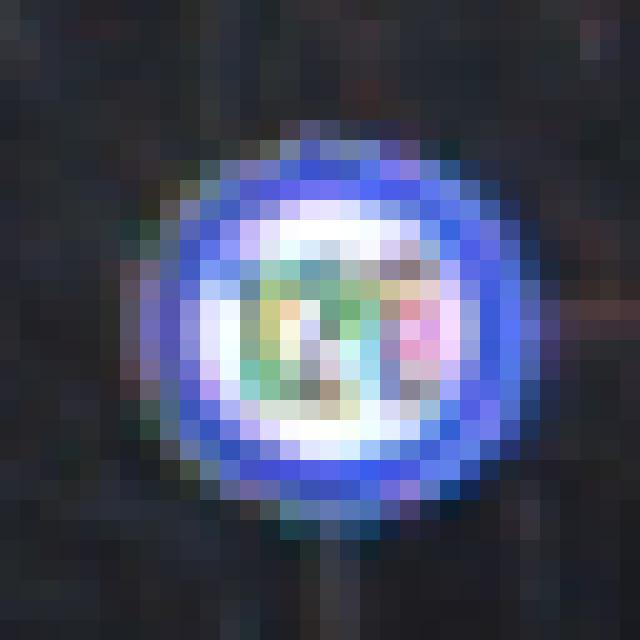SPEED LIMIT 120: (124, 149, 538, 528)
